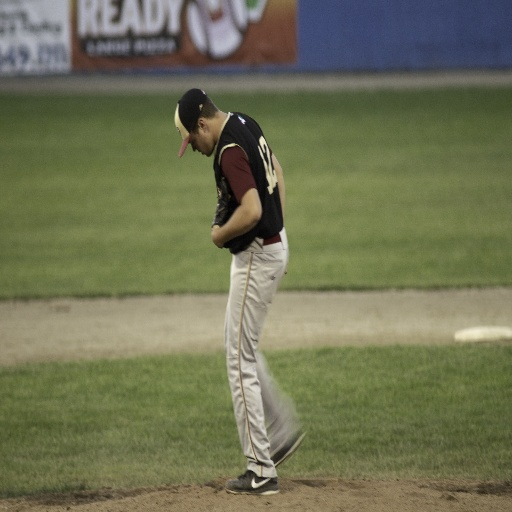hand: (210, 220, 221, 243), (280, 265, 288, 279)
